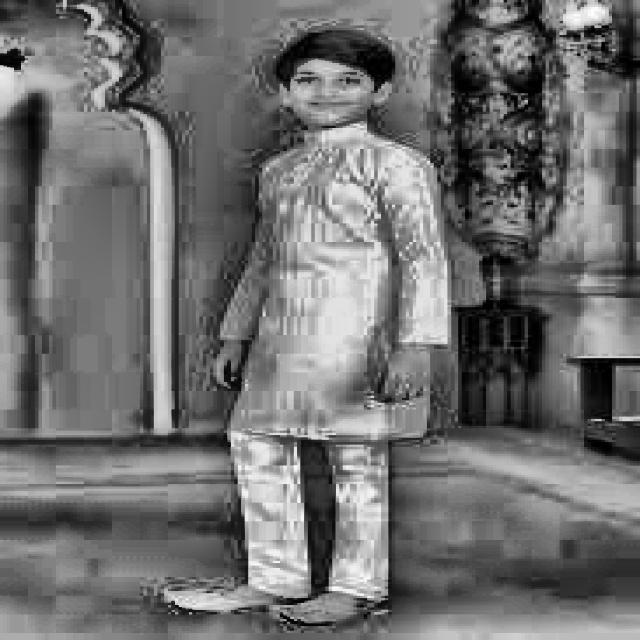Human: (138, 26, 471, 635)
